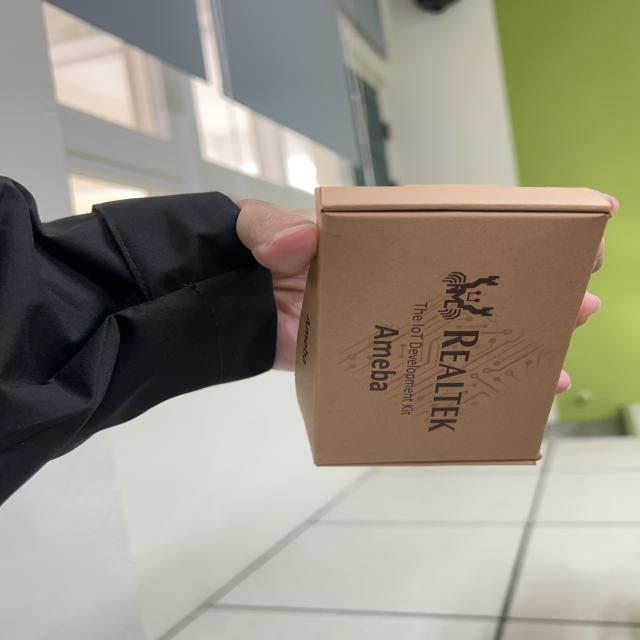box: (286, 168, 612, 481)
